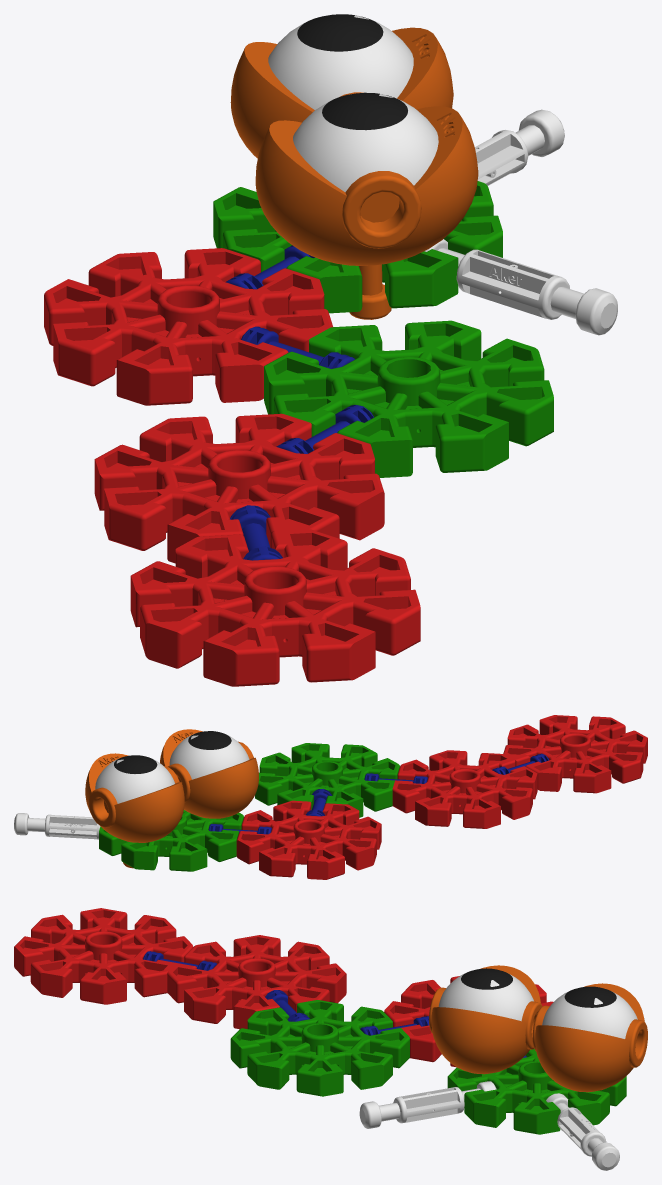
3 views of the same model, one above another, from view 1: azimuth 30°, elevation 25°; view 2: azimuth 150°, elevation 25°; view 3: azimuth 270°, elevation 25° (orthographic). The views are drawn at different scales.
Parts seen in each view (by area): view 1: Untitled.5145, Untitled.5146, Untitled.5159, Untitled.5147, Untitled.5154, Untitled.5158, Untitled.5155, Untitled.5143, Untitled.5149, Untitled.5156, Untitled.5144, Untitled.5150 (+8 smaller); view 2: Untitled.5146, Untitled.5147, Untitled.5145, Untitled.5159, Untitled.5158, Untitled.5142, Untitled.5154, Untitled.5155, Untitled.5143, Untitled.5150, Untitled.5153, Untitled.5141 (+7 smaller); view 3: Untitled.5159, Untitled.5145, Untitled.5147, Untitled.5158, Untitled.5142, Untitled.5154, Untitled.5149, Untitled.5144, Untitled.5156, Untitled.5146, Untitled.5143, Untitled.5155 (+6 smaller).
Part boxes in pixels (box(x1,y1,x2,y2)): Untitled.5145: box(130, 529, 420, 686); Untitled.5146: box(44, 248, 332, 405); Untitled.5159: box(264, 320, 553, 477); Untitled.5147: box(94, 413, 384, 563); Untitled.5154: box(255, 106, 478, 319); Untitled.5158: box(213, 181, 502, 313); Untitled.5155: box(293, 99, 438, 192); Untitled.5143: box(268, 20, 413, 109); Untitled.5149: box(424, 239, 617, 335); Untitled.5156: box(256, 115, 478, 214); Untitled.5144: box(232, 37, 453, 129); Untitled.5150: box(475, 109, 564, 185); Untitled.5146: box(236, 800, 381, 879); Untitled.5147: box(392, 750, 537, 828); Untitled.5145: box(503, 715, 647, 793); Untitled.5159: box(255, 743, 399, 817); Untitled.5158: box(99, 810, 243, 871); Untitled.5142: box(85, 753, 184, 868); Untitled.5154: box(163, 729, 258, 818); Untitled.5155: box(169, 734, 249, 779); Untitled.5143: box(95, 758, 174, 803); Untitled.5150: box(14, 813, 100, 839); Untitled.5153: box(188, 731, 231, 749); Untitled.5141: box(114, 755, 157, 773); Untitled.5159: box(230, 1000, 409, 1096); Untitled.5145: box(14, 908, 193, 1004); Untitled.5147: box(167, 935, 346, 1029); Untitled.5158: box(447, 1049, 626, 1134); Untitled.5142: box(532, 983, 647, 1092); Untitled.5154: box(429, 965, 542, 1074); Untitled.5149: box(359, 1081, 496, 1128); Untitled.5144: box(535, 1025, 630, 1063); Untitled.5156: box(431, 1007, 526, 1045); Untitled.5146: box(384, 976, 553, 1067); Untitled.5143: box(542, 991, 637, 1038); Untitled.5155: box(438, 973, 533, 1021).
Size of the model in its own units: 2.15 by 0.5268 by 2.37.
